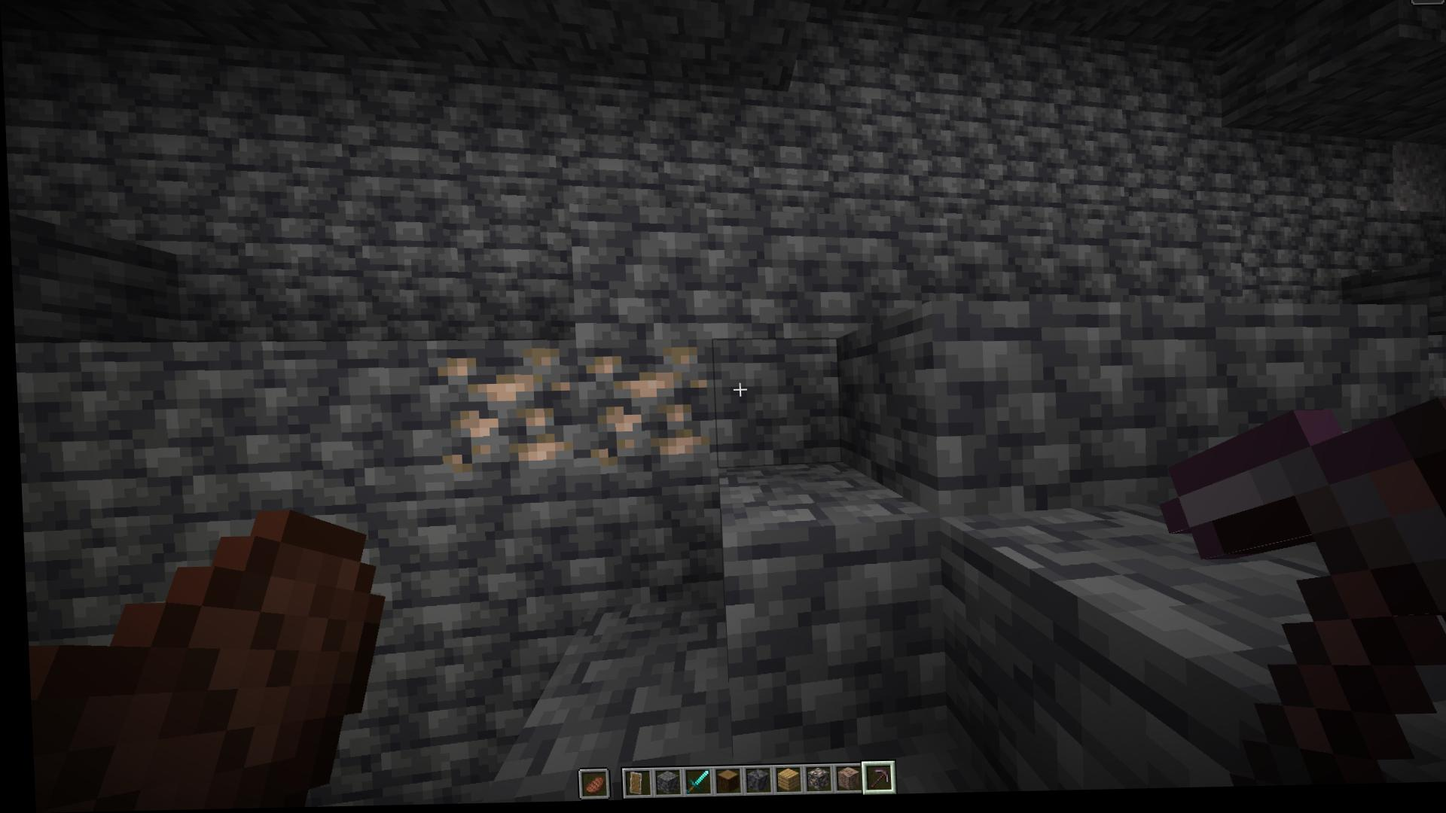iron ore: (421, 343, 576, 489), (573, 341, 708, 476)
